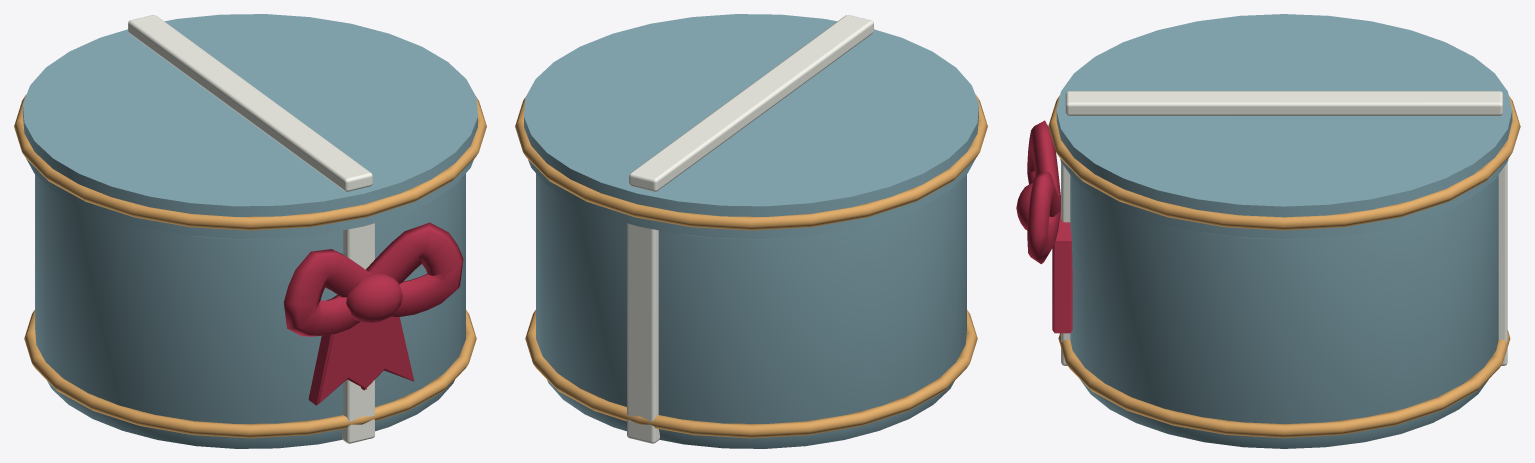
Rendered from storybook-christmas-market-round-ribbon-hatbox-d806ff16__19718.glb.
The picture shows the model from 3 angles, left to right: view 1: azimuth 30°, elevation 25°; view 2: azimuth 150°, elevation 25°; view 3: azimuth 270°, elevation 25°; orthographic projection.
Parts seen in each view (by area): view 1: round-ribbon-hatbox; view 2: round-ribbon-hatbox; view 3: round-ribbon-hatbox.
Part boxes in pixels (x1,y1,x2,y2): round-ribbon-hatbox: (14,14,486,448); round-ribbon-hatbox: (515,14,987,448); round-ribbon-hatbox: (1016,14,1520,448).
Size of the model in its own units: 0.788 by 0.485 by 0.8411.
